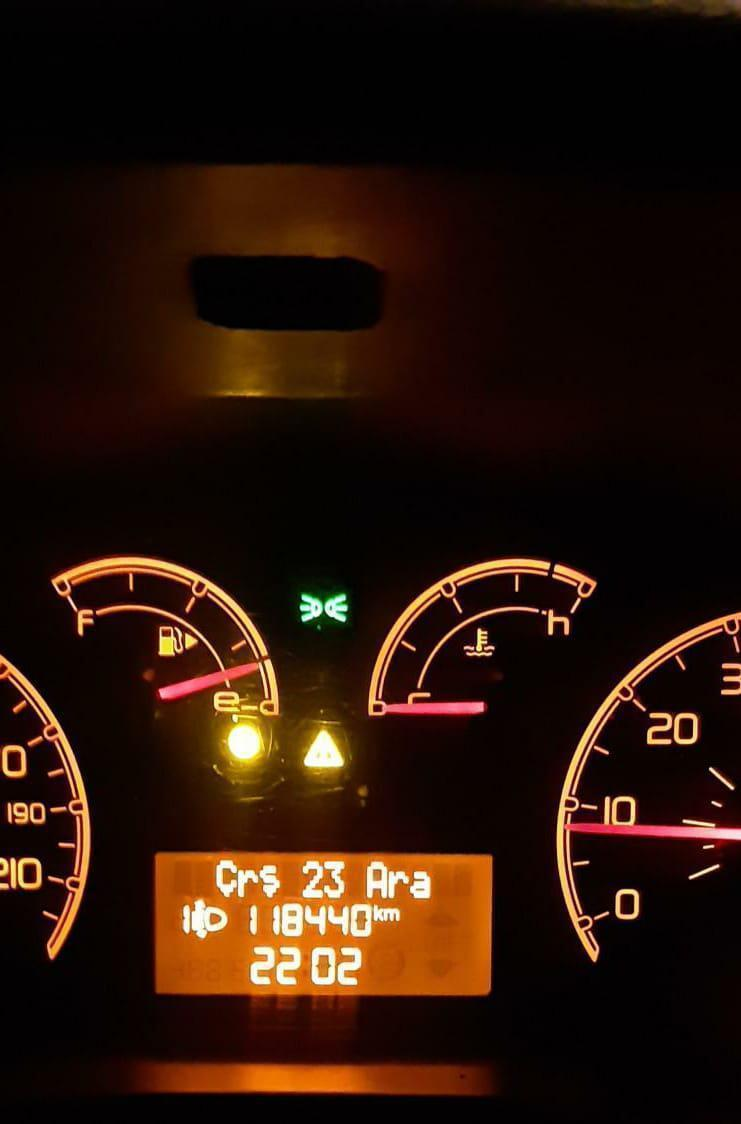0: (309, 945, 338, 985), (350, 901, 373, 938)
1: (246, 904, 260, 937), (179, 901, 190, 937), (271, 901, 279, 937)
2: (274, 946, 302, 987), (249, 944, 276, 986), (337, 945, 362, 987), (302, 858, 324, 899)
3: (324, 858, 346, 900)
4: (303, 903, 327, 936), (327, 903, 349, 934)
8: (281, 902, 303, 938)
X: (214, 858, 238, 899), (366, 862, 387, 898), (259, 863, 280, 898), (237, 867, 258, 898), (411, 870, 431, 899), (389, 869, 408, 899), (383, 906, 401, 923), (373, 903, 383, 922)
odometer: (152, 849, 500, 1001)
